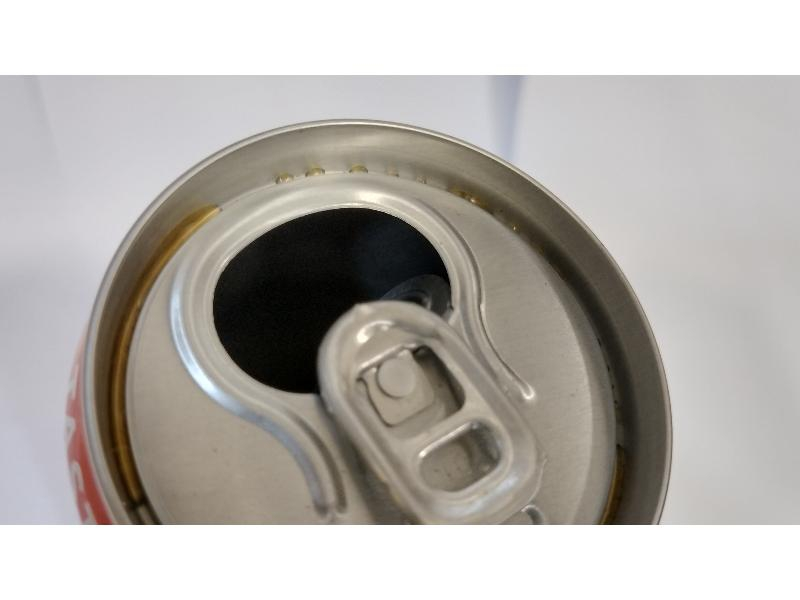can: (60, 116, 672, 523)
